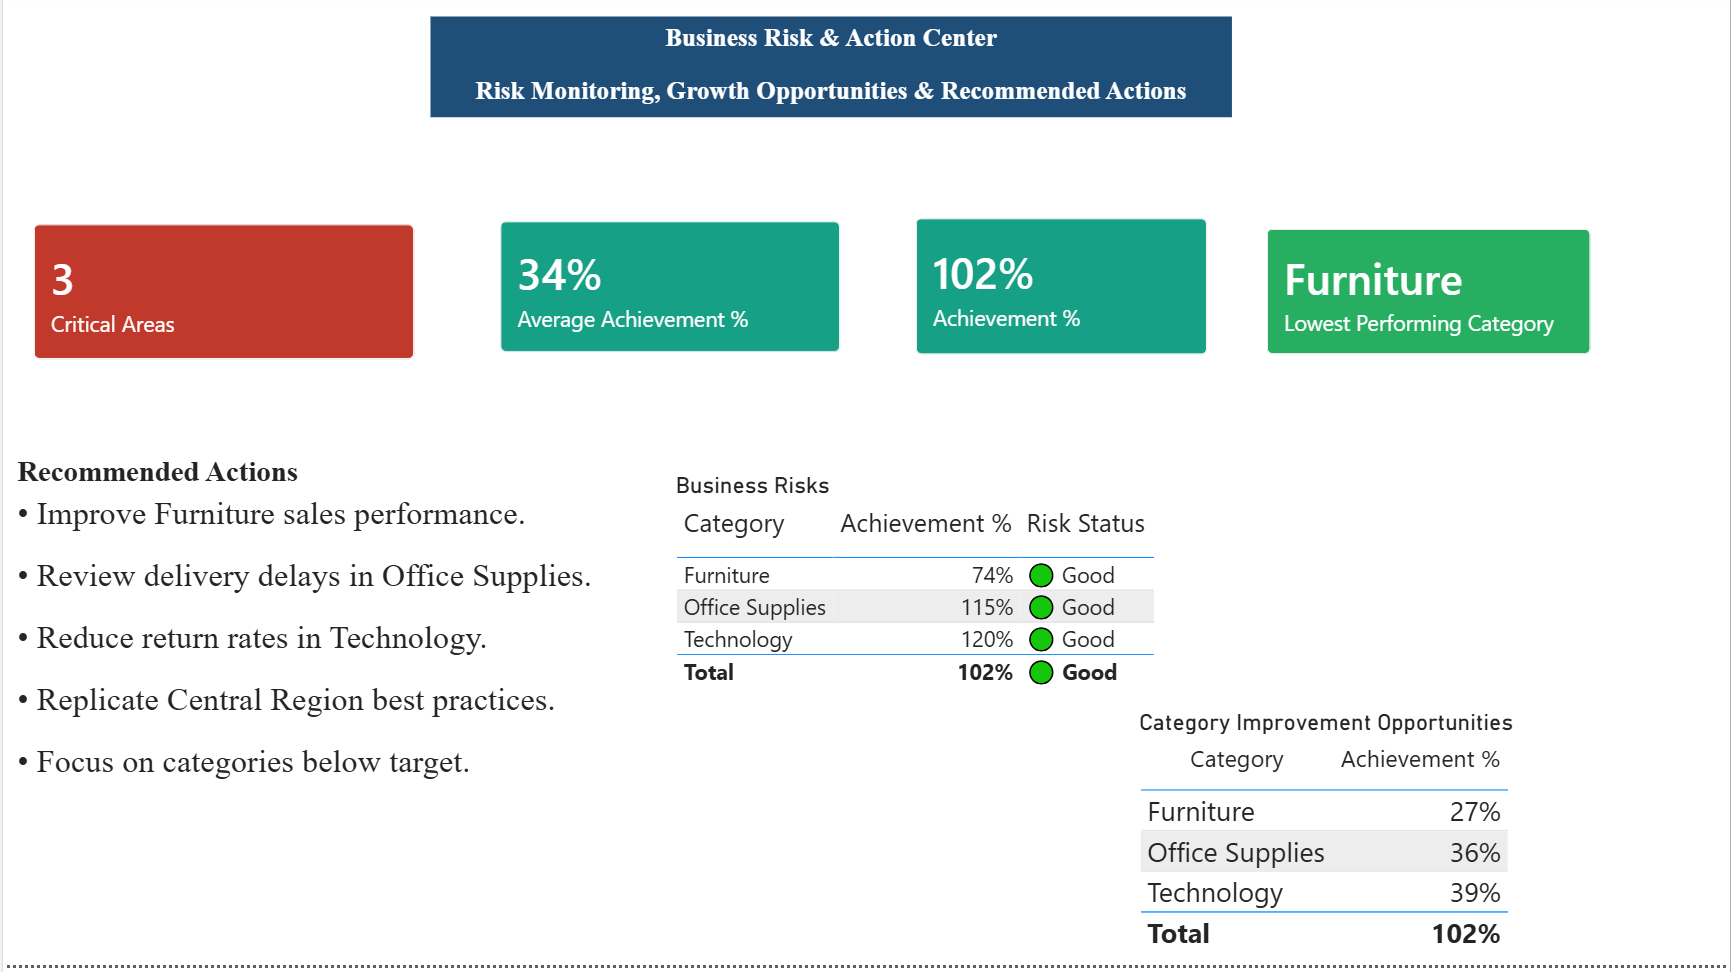

The page's visual inventory and layout, read from the dashboard file:
{"tool":"powerbi","page":{"name":"Risk Center","canvas":[1280,720],"ordinal":5},"visuals":[{"type":"cardVisual","fields":{"Data":["Date.Critical Areas"]},"box":[5.3,153.7,316.6,134],"z":0},{"type":"cardVisual","fields":{"Data":["Date.Best Achievement"]},"box":[350.8,151.1,286.4,131.4],"z":1000},{"type":"textbox","title":"Recommended Actions","box":[5.3,341.6,526.8,333.7],"z":2000},{"type":"cardVisual","fields":{"Data":["Date.Achievement %"]},"box":[659.5,148.5,250.9,135.3],"z":3000},{"type":"tableEx","title":"Business Risks","fields":{"Values":["Target.Category","Date.Achievement %","Date.Risk Status"]},"box":[494,353.4,416.5,176],"z":4000},{"type":"tableEx","title":"Category Improvement Opportunities","fields":{"Values":["Fact_orders.Category","Date.Achievement %"]},"box":[836.8,529.4,442.7,190.5],"z":5000},{"type":"textbox","box":[316.6,17.1,593.8,74.9],"z":7000},{"type":"cardVisual","fields":{"Data":["Date.Lowest Performing Category"]},"box":[919.6,156.3,274.6,127.4],"z":8000}]}

Visuals, with their boxes in screenshot pixels (x1, y1, x2, y2), scaled from the page's 1280x720 canvas onto the 1734x972 screenshot:
cardVisual - Date.Critical Areas: <bbox>7, 207, 436, 388</bbox>
cardVisual - Date.Best Achievement: <bbox>475, 204, 863, 381</bbox>
"Recommended Actions" textbox: <bbox>7, 461, 721, 912</bbox>
cardVisual - Date.Achievement %: <bbox>893, 200, 1233, 383</bbox>
"Business Risks" tableEx: <bbox>669, 477, 1233, 715</bbox>
"Category Improvement Opportunities" tableEx: <bbox>1134, 715, 1733, 971</bbox>
textbox: <bbox>429, 23, 1233, 124</bbox>
cardVisual - Date.Lowest Performing Category: <bbox>1246, 211, 1618, 383</bbox>
